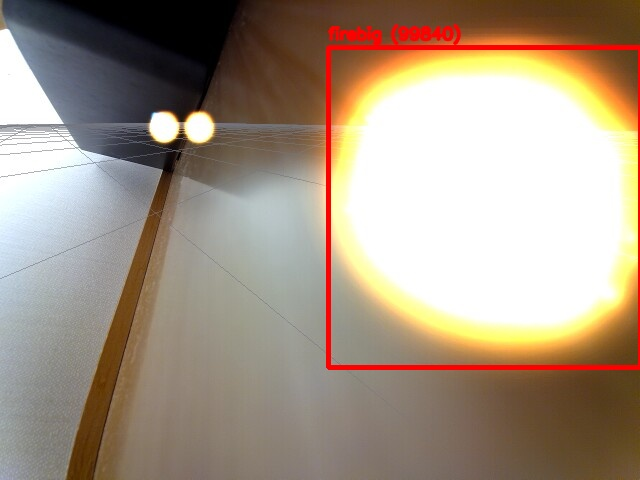firebig: (328, 47, 640, 367)
